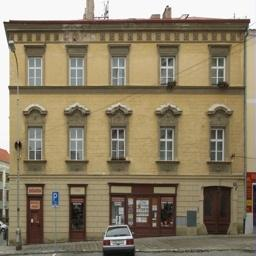building: (6, 0, 247, 235)
